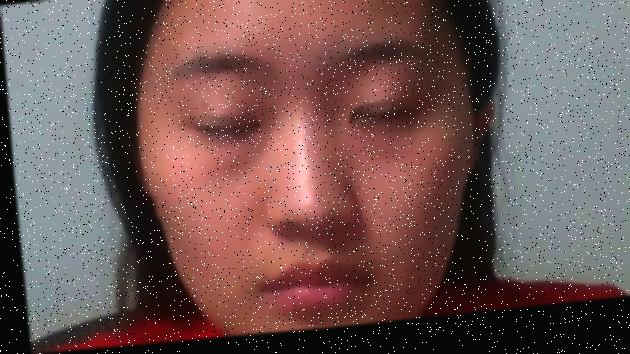eye: (215, 125, 240, 141), (366, 113, 387, 131)
iris: (194, 123, 257, 143), (349, 112, 417, 130)
